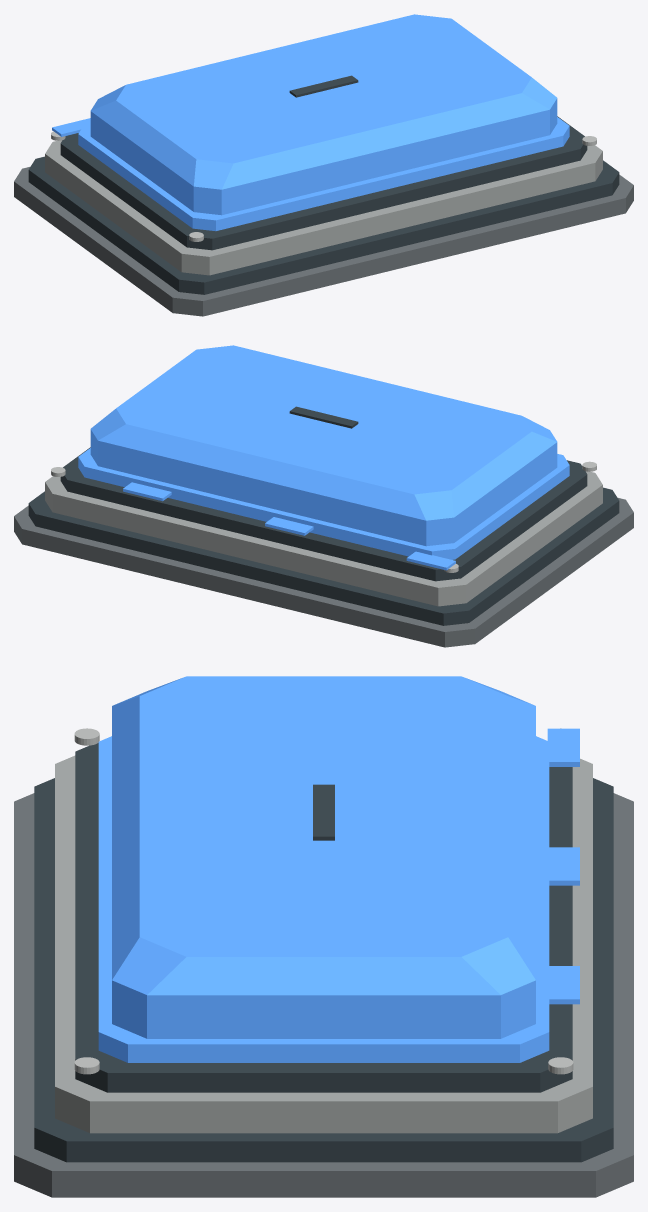
Rendered from GUC_AZALTMA_DUGMESI_21_ADAY.glb.
3 views of the same model, one above another, from view 1: azimuth 30°, elevation 25°; view 2: azimuth 150°, elevation 25°; view 3: azimuth 270°, elevation 25° (orthographic). The views are drawn at different scales.
Visible parts, largest first — view 1: MOVING_BLUE_POWER_MINUS_CAP, Raised_housing_rim, Outer_metal_mount, Lower_black_collared_frame, Inner_black_gasket, Red_button_border, Minus_symbol; view 2: MOVING_BLUE_POWER_MINUS_CAP, Raised_housing_rim, Outer_metal_mount, Lower_black_collared_frame, Inner_black_gasket, Red_button_border, Minus_symbol, Blue_warning_stripe_0, Blue_warning_stripe_2, Blue_warning_stripe_4; view 3: MOVING_BLUE_POWER_MINUS_CAP, Outer_metal_mount, Raised_housing_rim, Lower_black_collared_frame, Inner_black_gasket, Red_button_border, Minus_symbol, Blue_warning_stripe_0, Blue_warning_stripe_2, Blue_warning_stripe_4.
Part boxes in pixels (x1=…): MOVING_BLUE_POWER_MINUS_CAP: x1=90, y1=14, x2=557, y2=215; Raised_housing_rim: x1=45, y1=140, x2=602, y2=275; Outer_metal_mount: x1=14, y1=167, x2=633, y2=316; Lower_black_collared_frame: x1=28, y1=156, x2=619, y2=294; Inner_black_gasket: x1=60, y1=116, x2=587, y2=250; Red_button_border: x1=78, y1=117, x2=569, y2=231; Minus_symbol: x1=289, y1=75, x2=358, y2=97; MOVING_BLUE_POWER_MINUS_CAP: x1=90, y1=345, x2=557, y2=546; Raised_housing_rim: x1=45, y1=471, x2=602, y2=606; Outer_metal_mount: x1=14, y1=498, x2=633, y2=647; Lower_black_collared_frame: x1=28, y1=487, x2=619, y2=625; Inner_black_gasket: x1=60, y1=447, x2=587, y2=581; Red_button_border: x1=78, y1=448, x2=569, y2=559; Minus_symbol: x1=289, y1=406, x2=358, y2=428; Blue_warning_stripe_0: x1=406, y1=551, x2=455, y2=570; Blue_warning_stripe_2: x1=265, y1=517, x2=313, y2=535; Blue_warning_stripe_4: x1=123, y1=482, x2=171, y2=501; MOVING_BLUE_POWER_MINUS_CAP: x1=112, y1=676, x2=535, y2=1038; Outer_metal_mount: x1=14, y1=793, x2=633, y2=1197; Raised_housing_rim: x1=55, y1=755, x2=592, y2=1133; Lower_black_collared_frame: x1=34, y1=778, x2=613, y2=1162; Inner_black_gasket: x1=75, y1=743, x2=572, y2=1092; Red_button_border: x1=98, y1=736, x2=549, y2=1062; Minus_symbol: x1=313, y1=784, x2=334, y2=840; Blue_warning_stripe_0: x1=547, y1=728, x2=579, y2=766; Blue_warning_stripe_2: x1=549, y1=847, x2=579, y2=885; Blue_warning_stripe_4: x1=549, y1=966, x2=579, y2=1004.
Size of the model in its own units: 3.12 by 0.7325 by 2.12.
